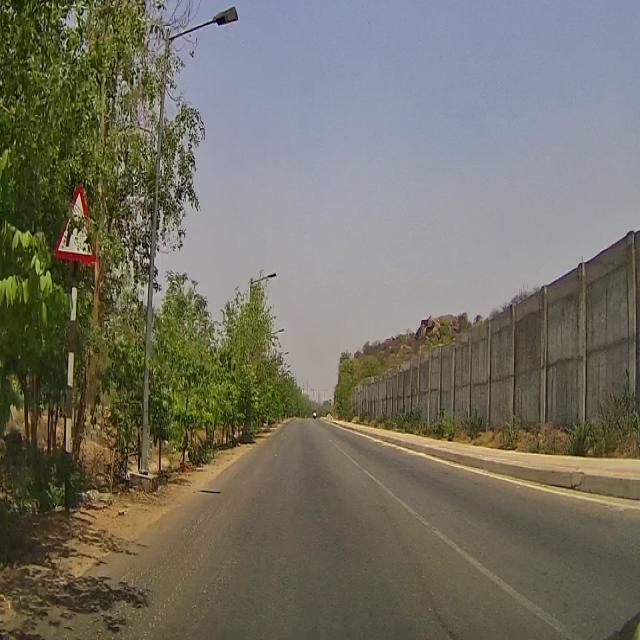right-hand-curve: (55, 180, 98, 252)
